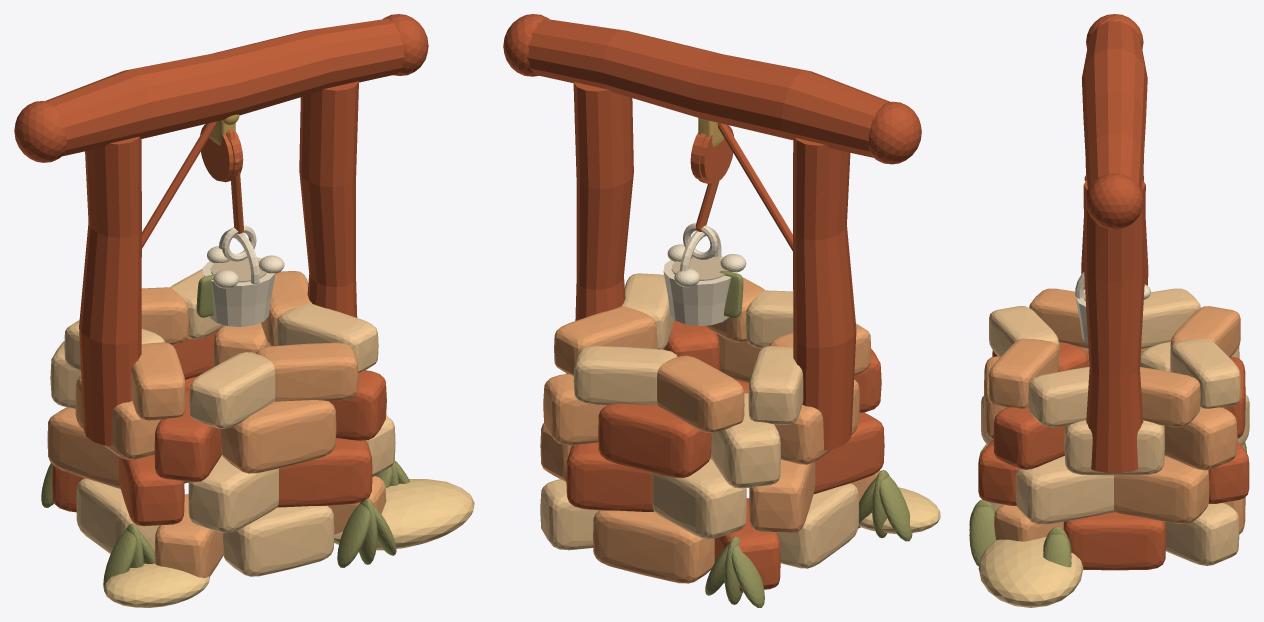
The model's file is well.glb.
The picture shows the model from 3 angles, left to right: view 1: azimuth 30°, elevation 25°; view 2: azimuth 150°, elevation 25°; view 3: azimuth 270°, elevation 25°; orthographic projection. The views are drawn at different scales.
Parts seen in each view (by area): view 1: Crossbeam, Post_L, Post_R, Brick_2_0, Brick_0_0, Rim_7, Brick_1_0, Rim_0, Brick_1_7, Sand1, Brick_2_7, Rim_1 (+28 smaller); view 2: Crossbeam, Post_L, Post_R, Brick_0_4, Brick_2_4, Brick_1_4, Rim_4, Rim_3, Brick_1_3, Brick_0_6, Brick_2_5, Rim_2 (+29 smaller); view 3: Post_R, Crossbeam, Sand1, Brick_0_2, Brick_1_1, Brick_1_2, Brick_2_3, Brick_2_1, Brick_0_3, Rim_3, Rim_0, Rim_1 (+17 smaller).
Boxes of the visible parts, <box> form: Crossbeam: <box>46,18,404,156</box>; Post_L: <box>79,136,141,446</box>; Post_R: <box>299,81,358,317</box>; Brick_2_0: <box>221,400,336,473</box>; Brick_0_0: <box>222,505,334,576</box>; Rim_7: <box>189,352,275,428</box>; Brick_1_0: <box>277,438,372,507</box>; Rim_0: <box>256,342,358,401</box>; Brick_1_7: <box>188,455,278,533</box>; Sand1: <box>334,479,474,550</box>; Brick_2_7: <box>154,390,221,482</box>; Rim_1: <box>276,304,378,372</box>; Crossbeam: <box>527,18,890,157</box>; Post_L: <box>793,137,856,450</box>; Post_R: <box>573,82,633,320</box>; Brick_0_4: <box>593,510,714,583</box>; Brick_2_4: <box>598,404,711,477</box>; Brick_1_4: <box>652,459,746,539</box>; Rim_4: <box>657,355,744,433</box>; Rim_3: <box>573,346,677,405</box>; Brick_1_3: <box>566,442,653,511</box>; Brick_0_6: <box>776,483,858,568</box>; Brick_2_5: <box>711,393,780,488</box>; Rim_2: <box>554,306,656,376</box>; Post_R: <box>1083,180,1145,473</box>; Crossbeam: <box>1081,21,1147,191</box>; Sand1: <box>978,537,1083,607</box>; Brick_0_2: <box>1063,512,1166,570</box>; Brick_1_1: <box>1015,455,1114,524</box>; Brick_1_2: <box>1114,456,1209,523</box>; Brick_2_3: <box>1164,407,1237,470</box>; Brick_2_1: <box>993,407,1064,469</box>; Brick_0_3: <box>1165,503,1239,565</box>; Rim_3: <box>1170,338,1240,408</box>; Rim_0: <box>989,338,1058,408</box>; Rim_1: <box>1028,366,1089,427</box>.
Size of the model in its own units: 1.64 by 1.87 by 1.07.
